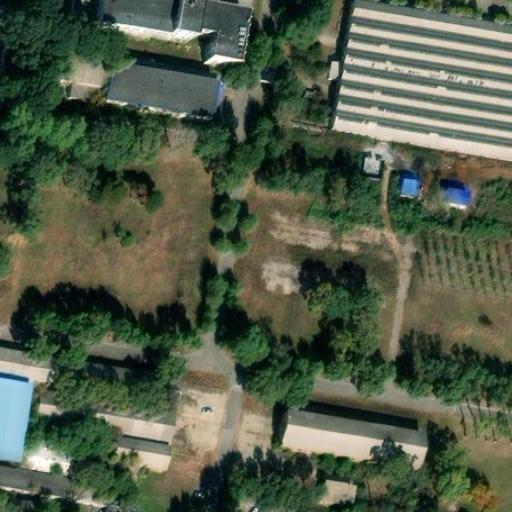building: (331, 4, 512, 159), (281, 418, 424, 474), (99, 67, 215, 130), (0, 447, 111, 507), (36, 391, 171, 433), (184, 5, 240, 70), (108, 455, 170, 490), (57, 59, 106, 95), (306, 367, 359, 394), (112, 443, 164, 463), (65, 0, 91, 34), (440, 180, 471, 203), (292, 463, 318, 490), (319, 485, 352, 506), (359, 148, 384, 171), (397, 179, 418, 201)
